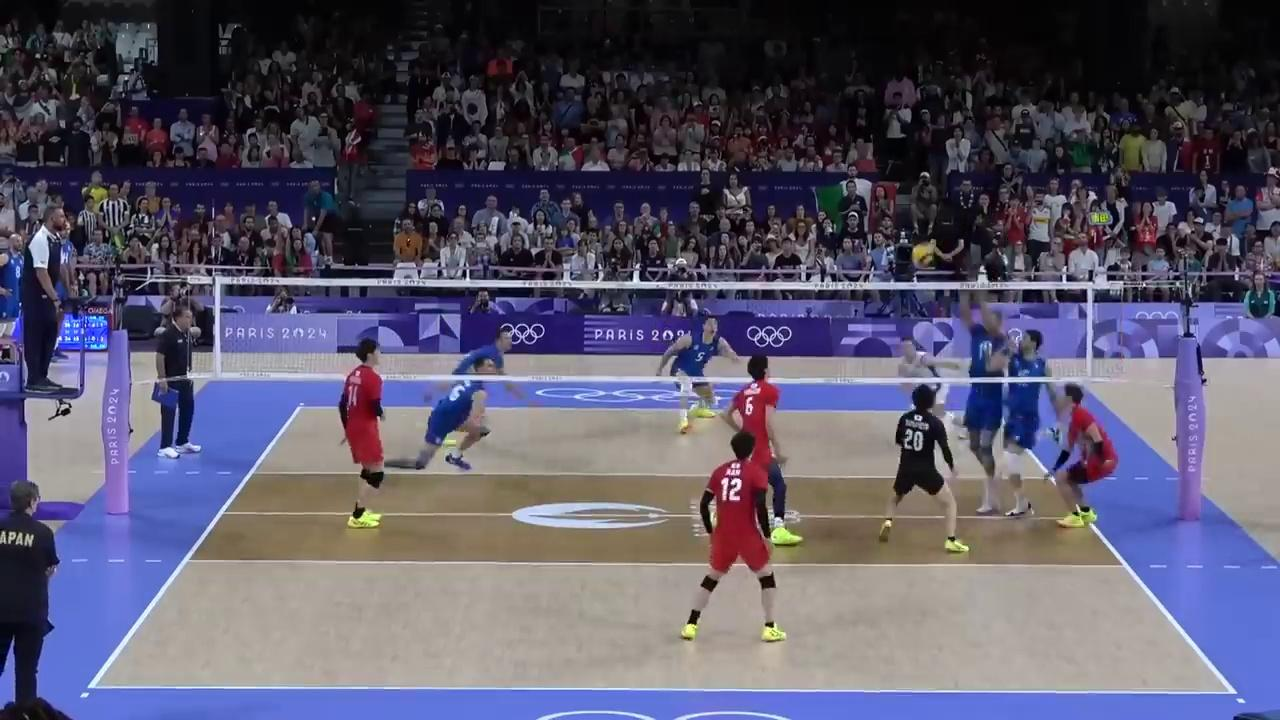ball: (912, 242, 934, 268)
